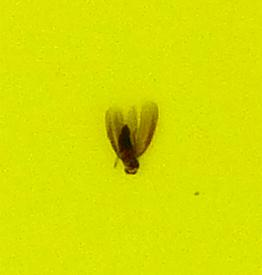Hemiptera: (100, 100, 162, 175)
